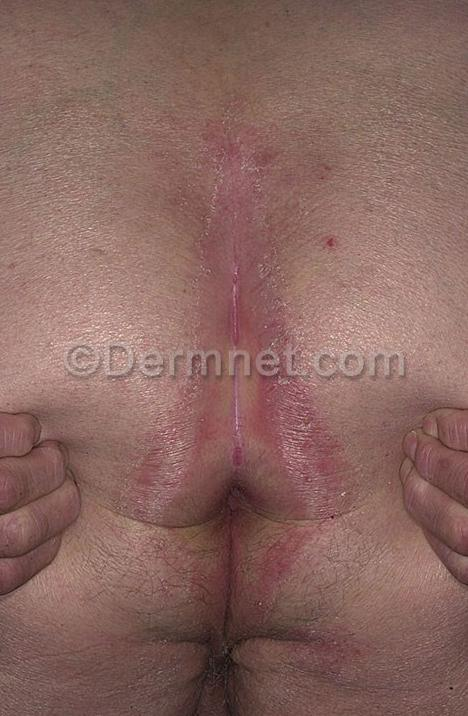eritema 3: (157, 130, 336, 706)
xerosis 1: (0, 1, 468, 716)
